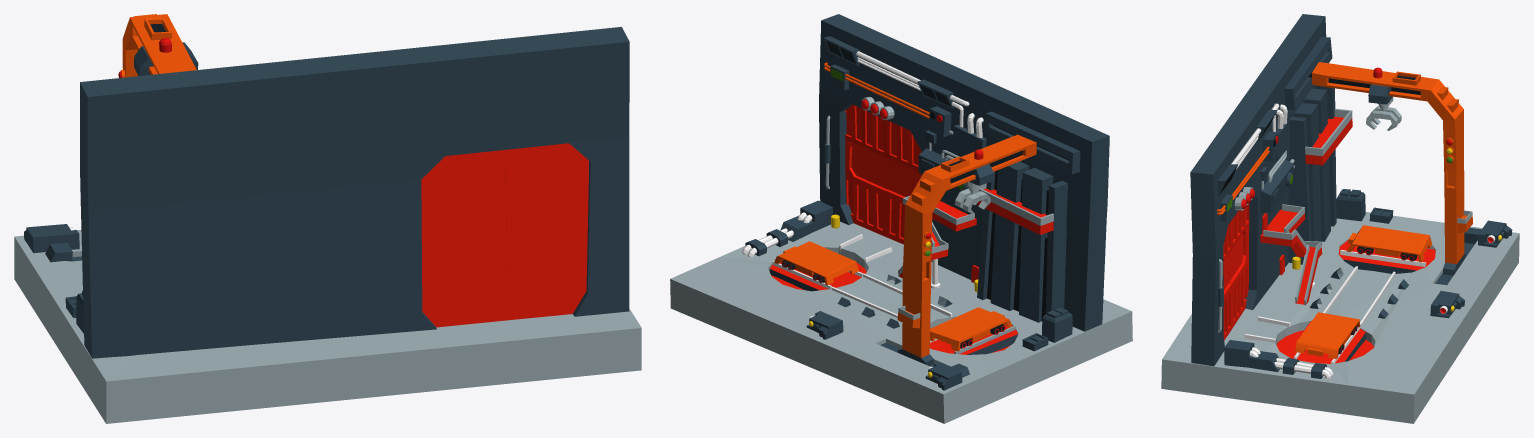
3 views of the same model, side by side, from view 1: azimuth 30°, elevation 25°; view 2: azimuth 150°, elevation 25°; view 3: azimuth 270°, elevation 25° (orthographic). The views are drawn at different scales.
Visible parts, largest first — view 1: group2106340951, group1369875113, group229393627, group1227555441, group1706384470, group601240197; view 2: group1369875113, group2106340951, group1706384470, group1227555441, group2094051629, group589028200, group229393627, group1751281589, group63660039, group1276694015, group1810091421, group365919594 (+16 smaller); view 3: group1369875113, group2106340951, group1706384470, group1810091421, group1781159147, group1276694015, group365919594, group229393627, group870495281, group1155284992, group589028200, group63660039 (+14 smaller).
Part boxes in pixels (x1=…): group2106340951: x1=80, y1=27, x2=629, y2=358; group1369875113: x1=14, y1=230, x2=641, y2=423; group229393627: x1=421, y1=150, x2=508, y2=327; group1227555441: x1=505, y1=143, x2=588, y2=320; group1706384470: x1=118, y1=14, x2=196, y2=77; group601240197: x1=24, y1=224, x2=79, y2=253; group1369875113: x1=670, y1=221, x2=1132, y2=423; group2106340951: x1=819, y1=14, x2=1109, y2=331; group1706384470: x1=897, y1=134, x2=1038, y2=365; group1227555441: x1=845, y1=104, x2=889, y2=237; group2094051629: x1=1019, y1=167, x2=1053, y2=322; group589028200: x1=990, y1=161, x2=1029, y2=310; group229393627: x1=885, y1=120, x2=921, y2=244; group1751281589: x1=1045, y1=180, x2=1067, y2=314; group63660039: x1=984, y1=111, x2=1080, y2=174; group1276694015: x1=774, y1=241, x2=858, y2=285; group1810091421: x1=930, y1=307, x2=1012, y2=351; group365919594: x1=742, y1=200, x2=832, y2=257; group1369875113: x1=1161, y1=212, x2=1519, y2=423; group2106340951: x1=1190, y1=14, x2=1326, y2=366; group1706384470: x1=1308, y1=62, x2=1472, y2=275; group1810091421: x1=1346, y1=225, x2=1432, y2=262; group1781159147: x1=1288, y1=117, x2=1311, y2=264; group1276694015: x1=1295, y1=312, x2=1359, y2=359; group365919594: x1=1224, y1=340, x2=1333, y2=378; group229393627: x1=1228, y1=203, x2=1249, y2=327; group870495281: x1=1338, y1=240, x2=1435, y2=273; group1155284992: x1=1260, y1=209, x2=1322, y2=304; group589028200: x1=1294, y1=103, x2=1321, y2=245; group63660039: x1=1284, y1=37, x2=1332, y2=109.
Bounding box in the file's own units: 5.21 × 2.9 × 4.19.
